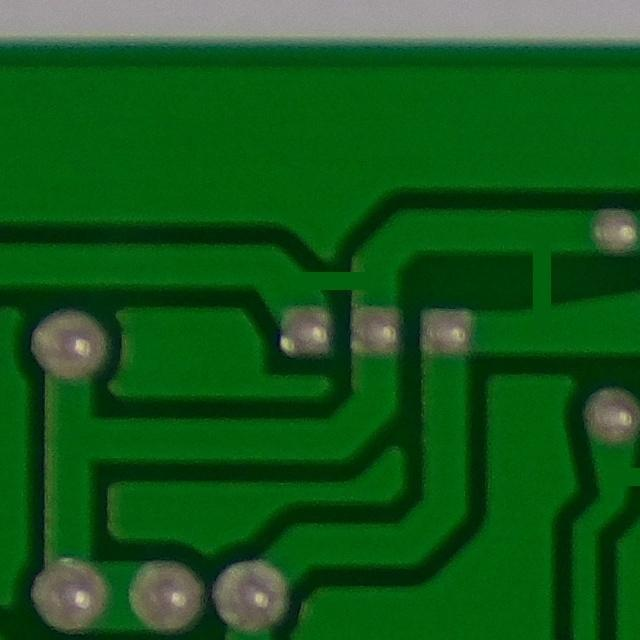short: (277, 238, 390, 339), (489, 238, 589, 329)
